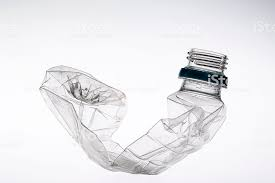bottle: (45, 51, 227, 171)
plastic: (41, 47, 228, 174)
